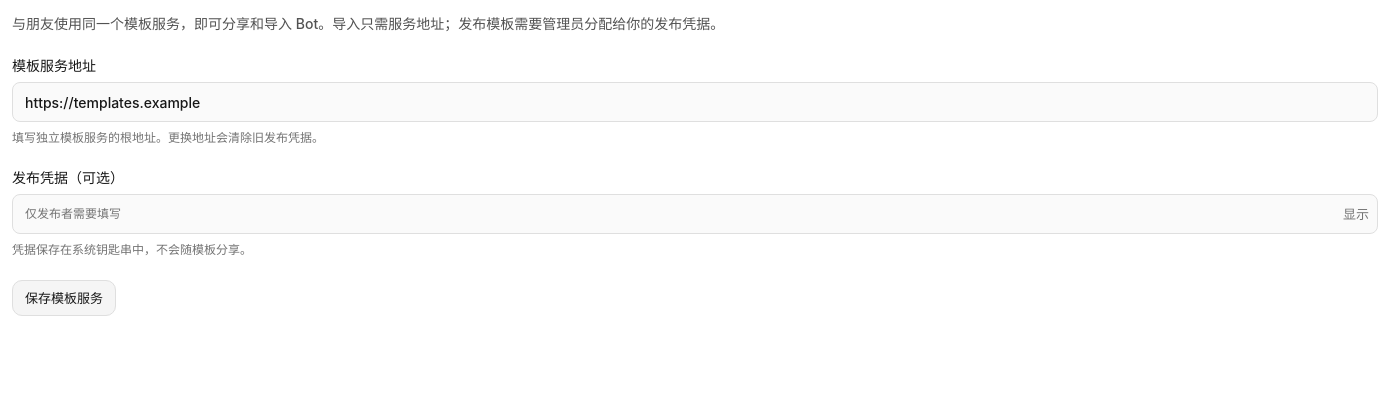
Test case: Bot template flows › does not echo or persist publishing credentials in settings
This screenshot has width=1390, height=417.
Type "test-private-token" into the password field labelled "发布凭据（可选）" at (695, 214), box [12, 194, 1378, 234]
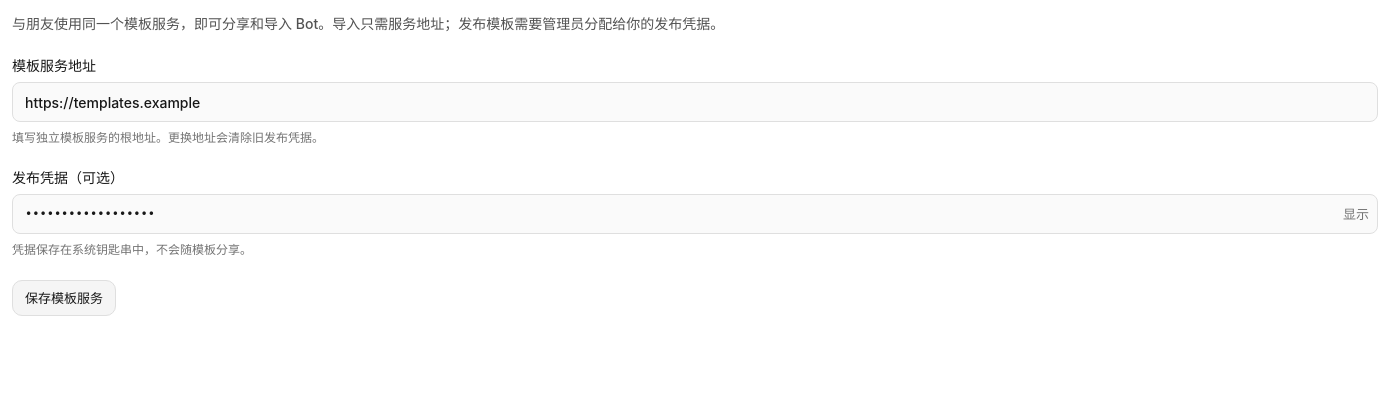
Click the button "保存模板服务" at (64, 298), box [12, 280, 116, 316]
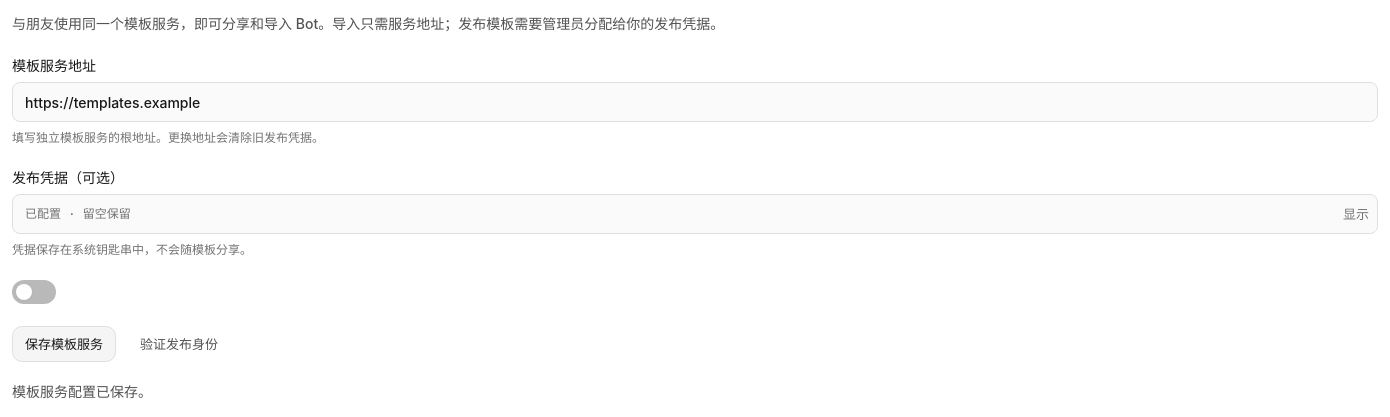
Expected: the text "模板服务配置已保存。" is shown, [12, 383, 152, 400]
Expected: the password field labelled "发布凭据（可选）" is empty, [12, 194, 1378, 234]
